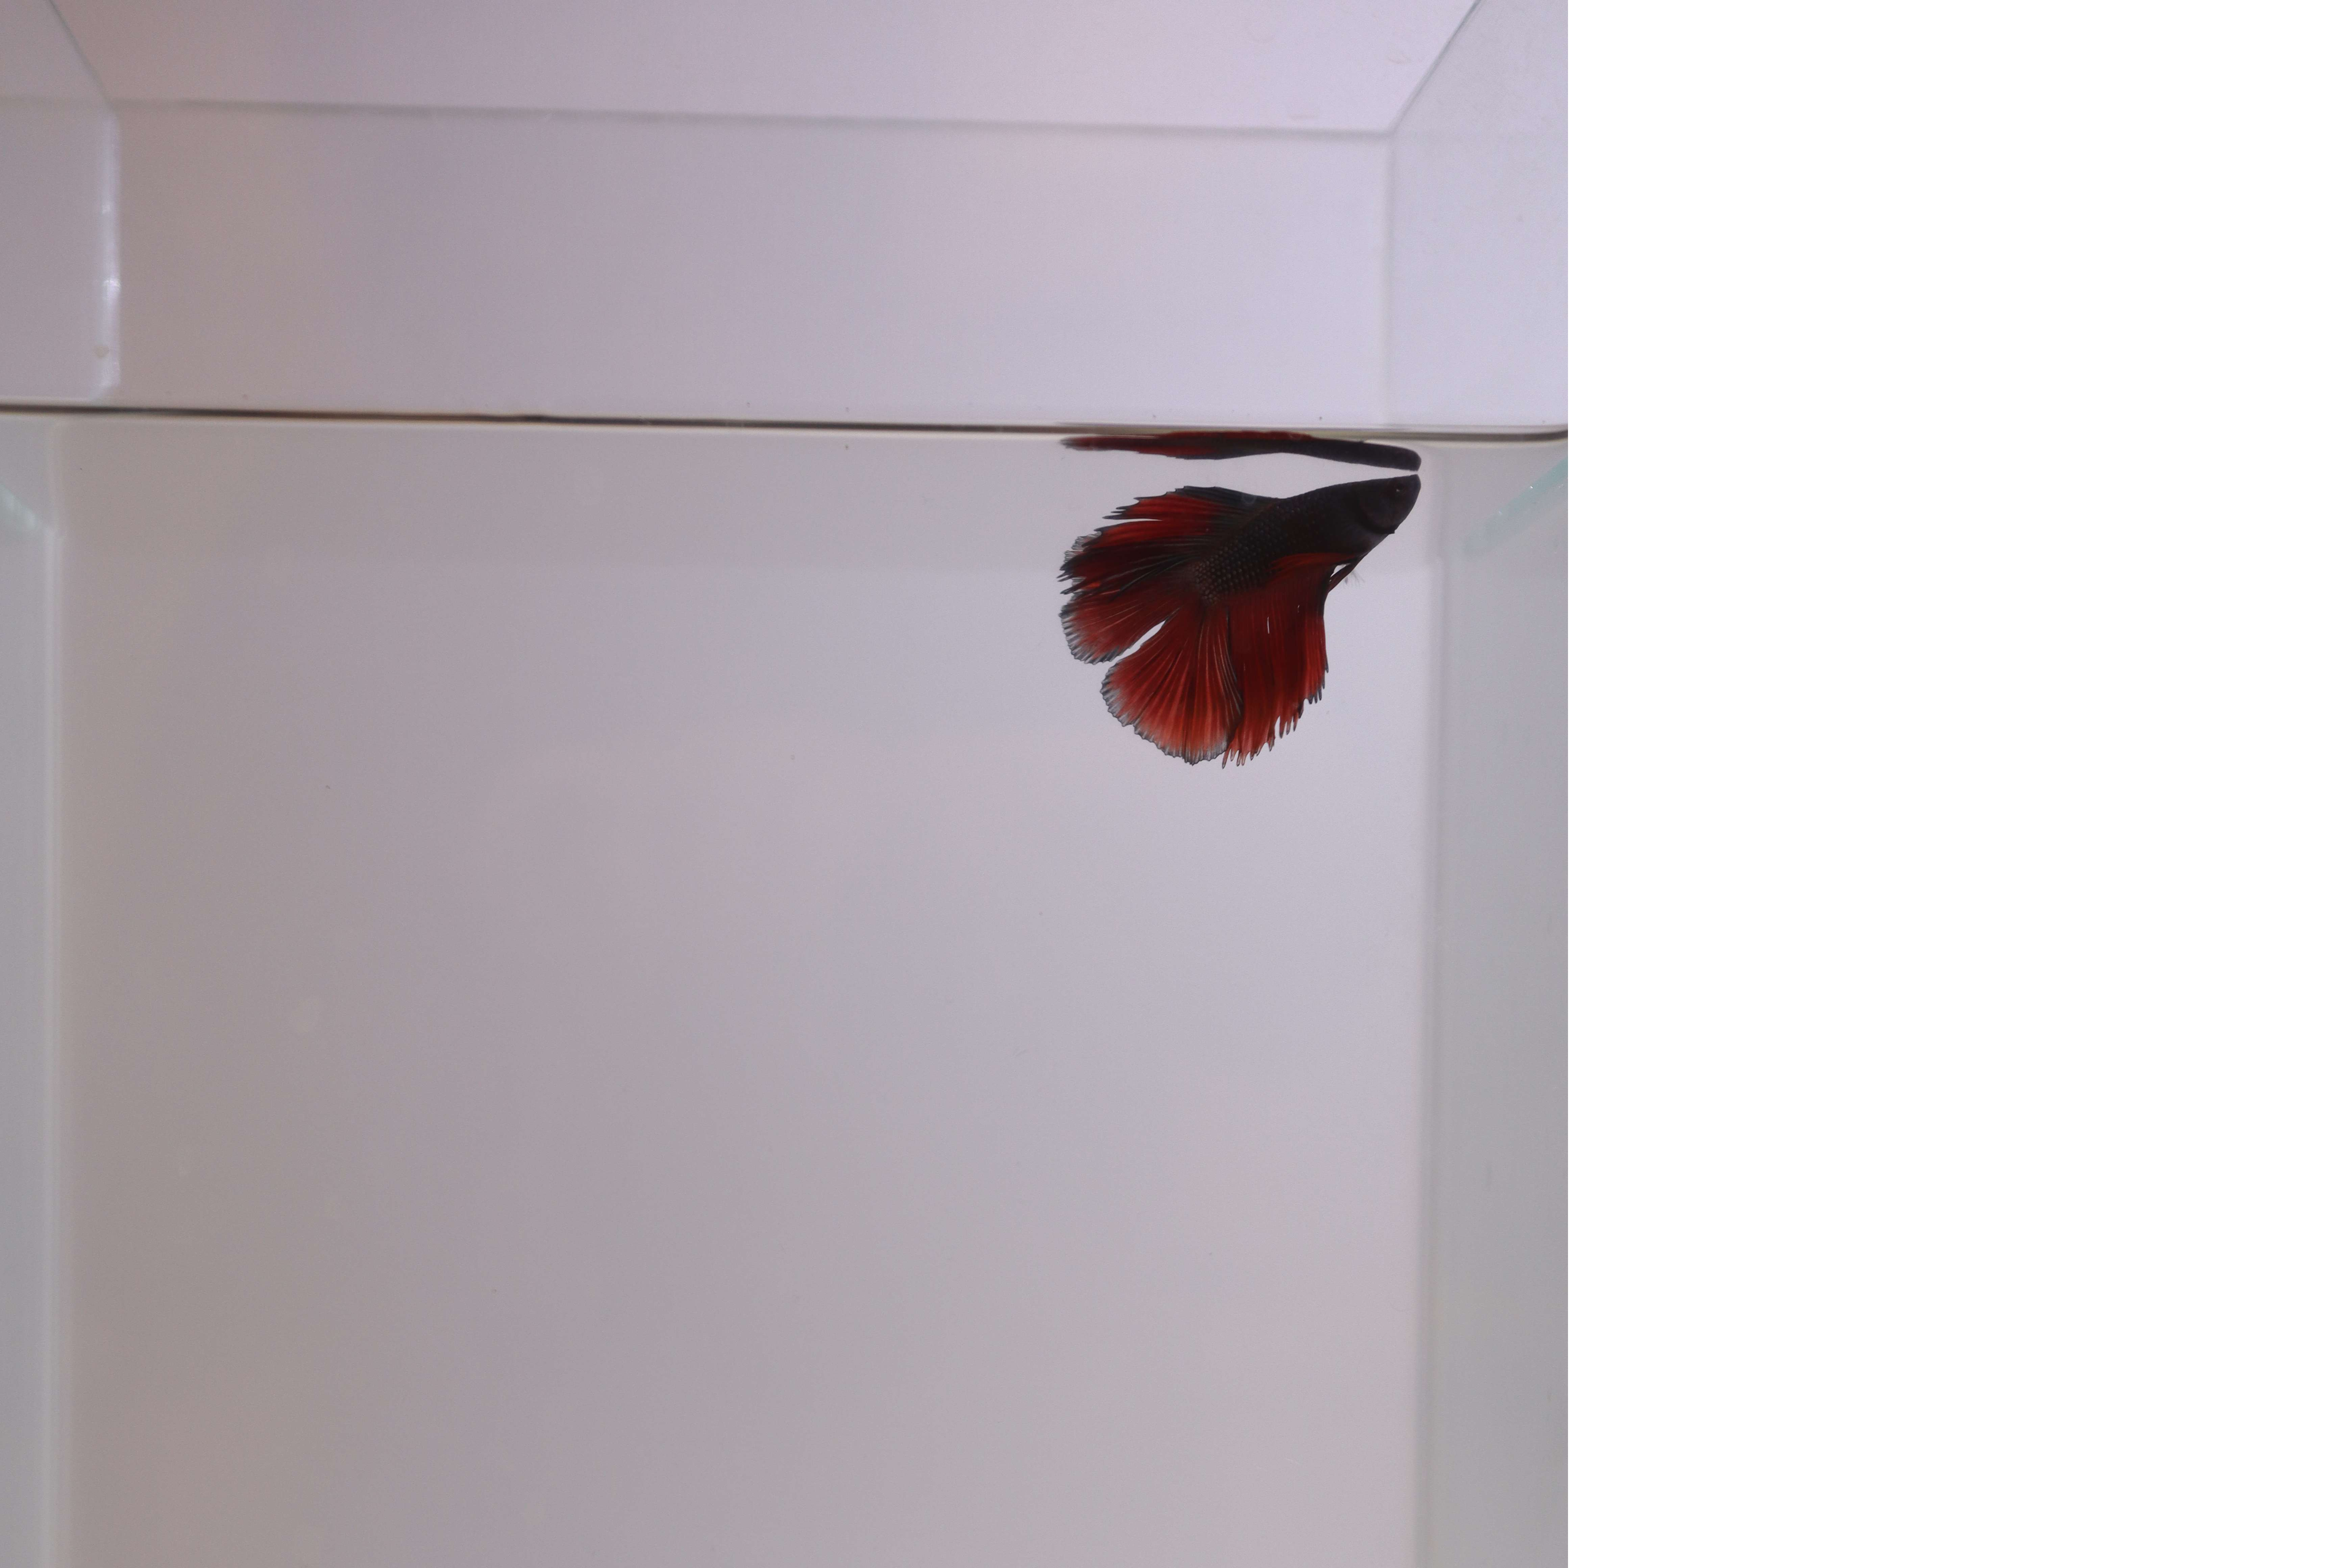fish: (1034, 462, 1421, 766)
